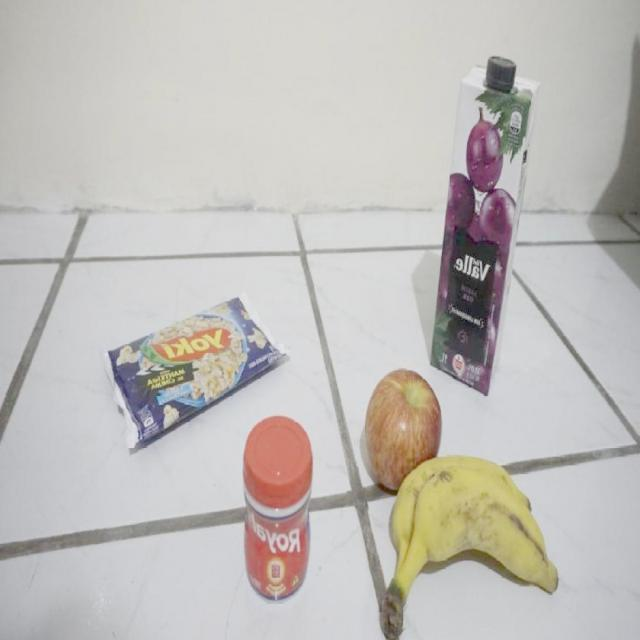Yeast: (242, 414, 313, 602)
